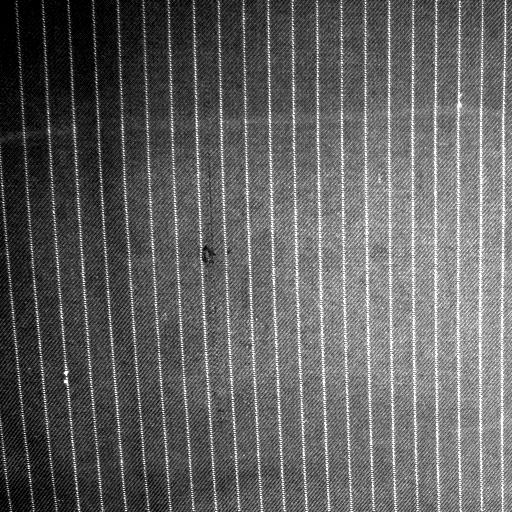fabric_hole: (198, 242, 220, 272)
